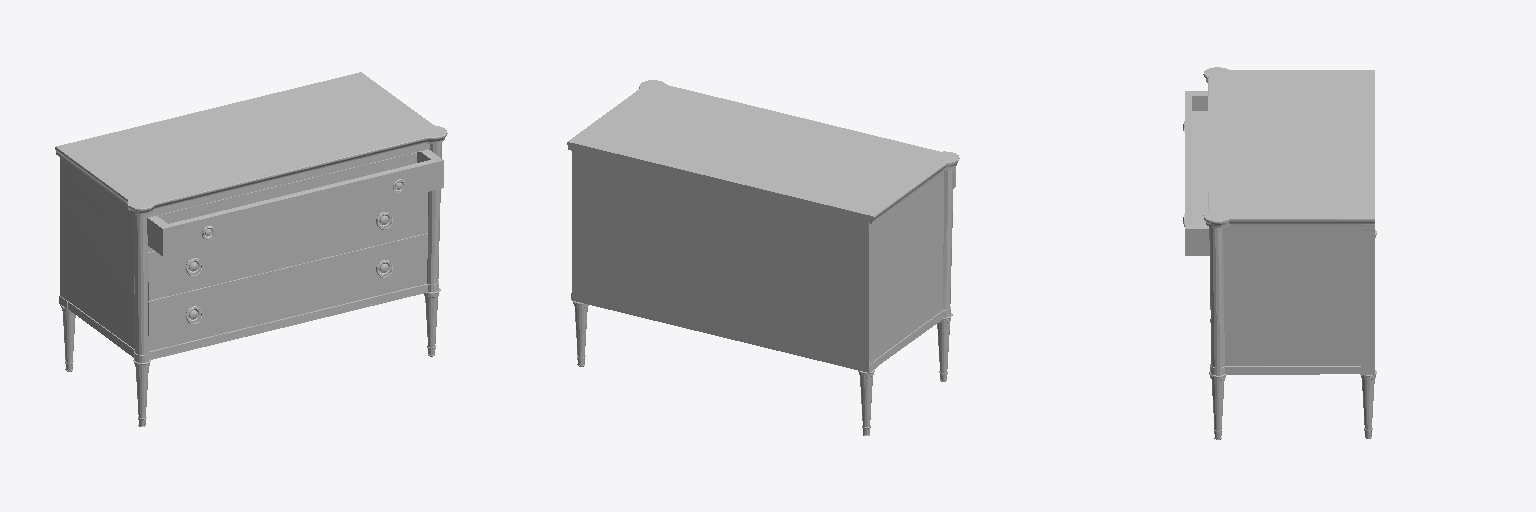
File: dresseropentest.obj
3 renders of one model, left to right at view 1: azimuth 30°, elevation 25°; view 2: azimuth 150°, elevation 25°; view 3: azimuth 270°, elevation 25°, orthographic.
Visible parts, largest first — view 1: Cube.001; view 2: Cube.001; view 3: Cube.001.
Boxes of the visible parts, box(x1,y1,x2,y2) form: Cube.001: box(55, 72, 447, 426); Cube.001: box(567, 80, 959, 435); Cube.001: box(1183, 67, 1376, 439).
Size of the model in its own units: 1.62 by 1.1 by 0.8622.